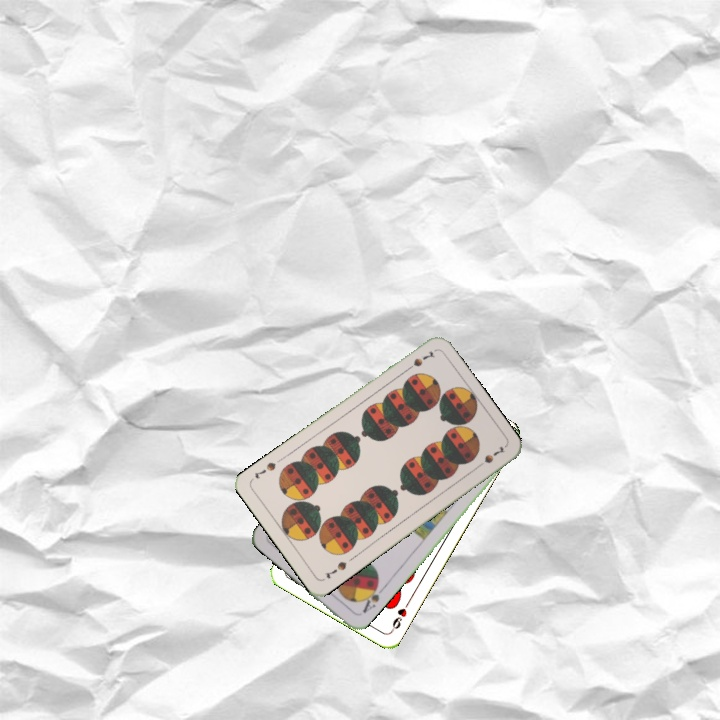H9: (387, 597, 412, 634)
S7: (401, 347, 438, 374), (321, 557, 349, 581)
SA: (358, 579, 386, 616)
